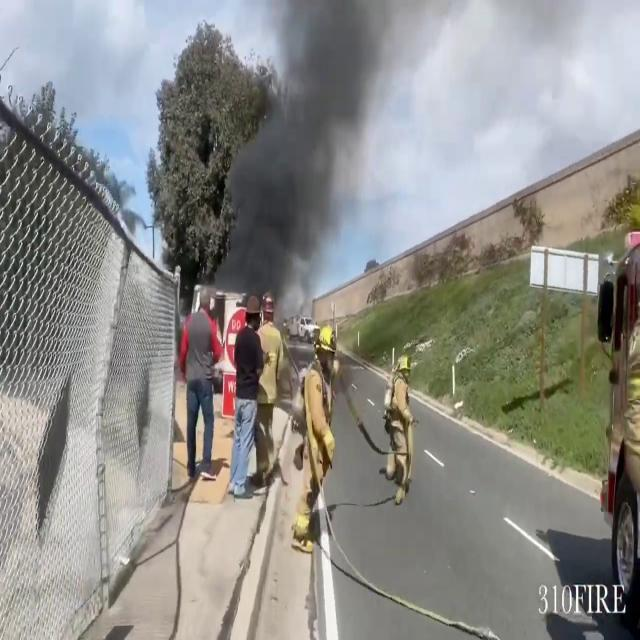Smoke: (223, 0, 394, 301)
